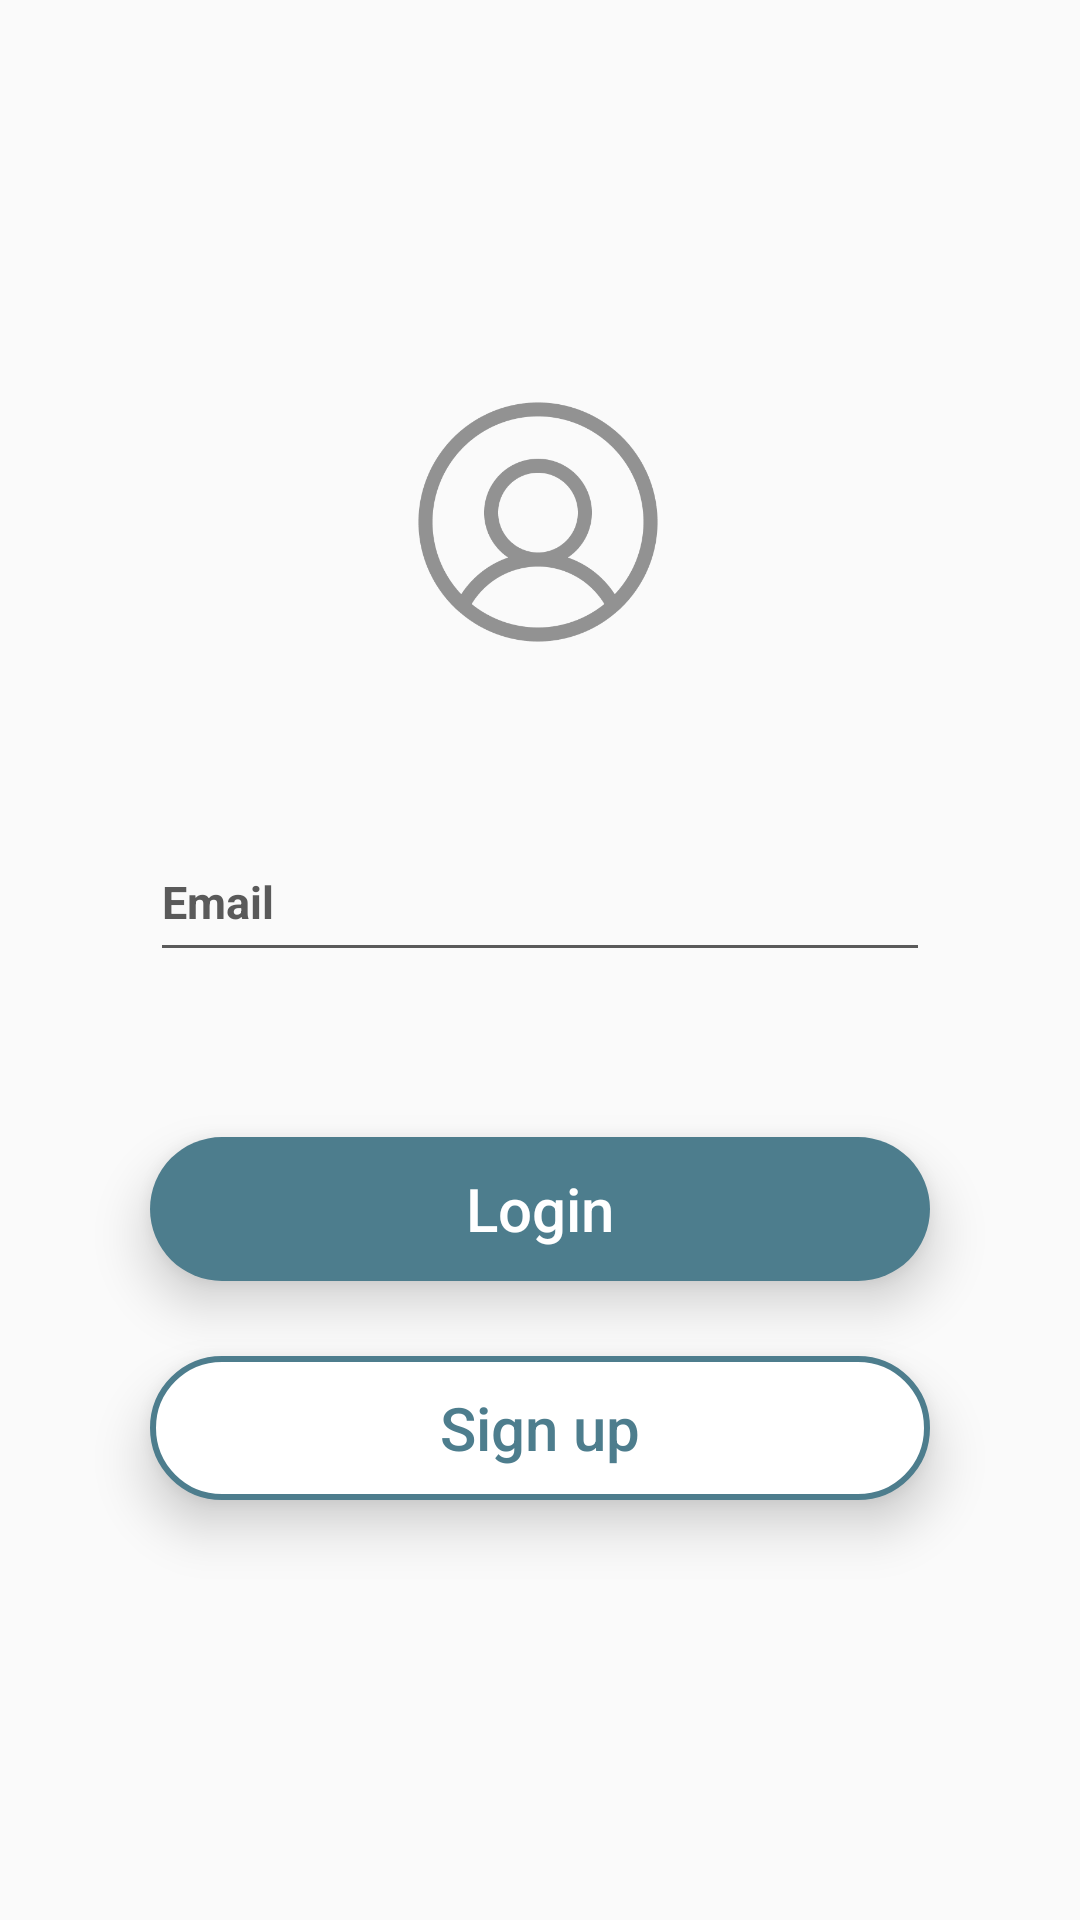

Named icons in this screenshot (1080 x 1920) and their bounding boxes, [x1=x1, y1=y1, x2=x2, y2=y2]:
user: [x1=418, y1=402, x2=658, y2=642]
